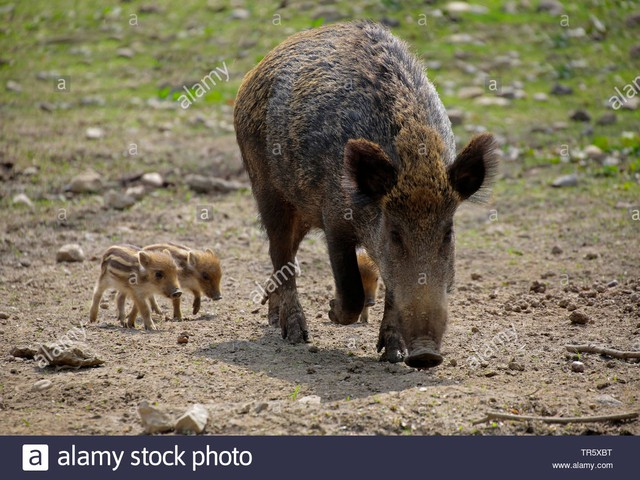Pig: (232, 16, 503, 375), (90, 240, 228, 331)
